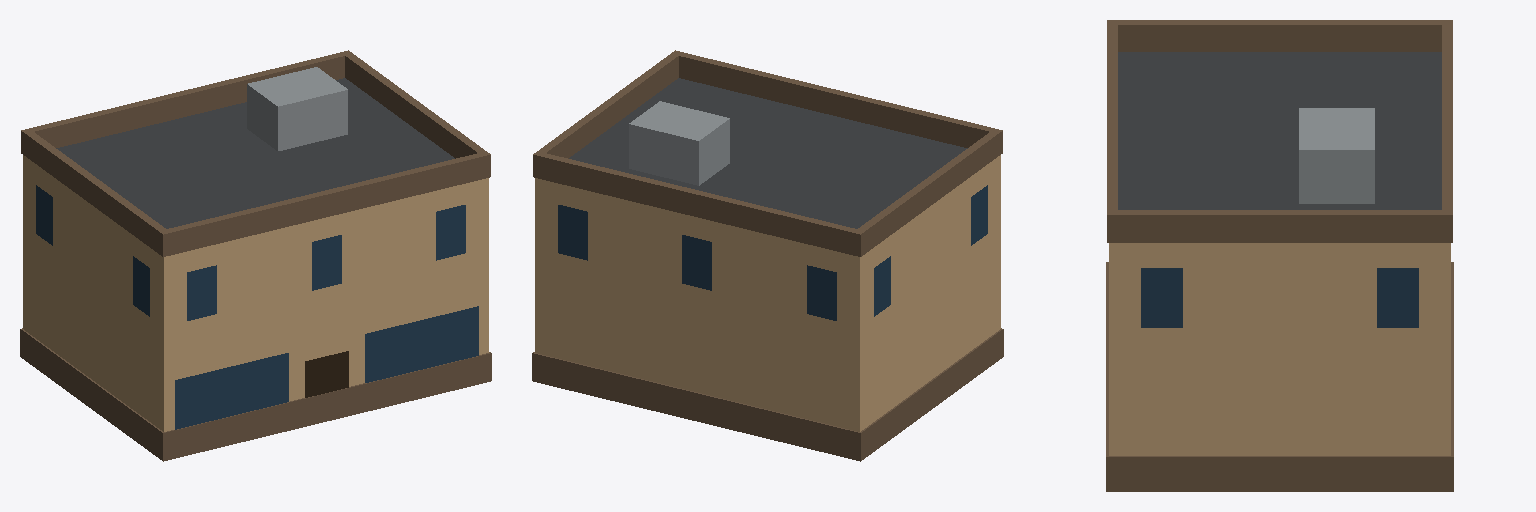
URDF robot description (building_02):
<?xml version="1.0" encoding="utf-8"?>
<!-- Generated by tools/generate_assets.py -->
<robot name="building_02">
  <link name="base_link">
    <inertial>
      <mass value="0" />
      <inertia ixx="0" ixy="0" ixz="0" iyy="0" iyz="0" izz="0" />
    </inertial>
    <visual name="part_0">
      <geometry><mesh filename="meshes/building_02_v0.obj" /></geometry>
      <material name="building_02_0"><color rgba="0.8 0.68 0.52 1" /></material>
    </visual>
    <visual name="part_1">
      <geometry><mesh filename="meshes/building_02_v1.obj" /></geometry>
      <material name="building_02_1"><color rgba="0.48 0.4 0.32 1" /></material>
    </visual>
    <visual name="part_2">
      <geometry><mesh filename="meshes/building_02_v2.obj" /></geometry>
      <material name="building_02_2"><color rgba="0.3 0.31 0.32 1" /></material>
    </visual>
    <visual name="part_3">
      <geometry><mesh filename="meshes/building_02_v3.obj" /></geometry>
      <material name="building_02_3"><color rgba="0.6 0.62 0.63 1" /></material>
    </visual>
    <visual name="part_4">
      <geometry><mesh filename="meshes/building_02_v4.obj" /></geometry>
      <material name="building_02_4"><color rgba="0.2 0.3 0.38 1" /></material>
    </visual>
    <visual name="part_5">
      <geometry><mesh filename="meshes/building_02_v5.obj" /></geometry>
      <material name="building_02_5"><color rgba="0.25 0.2 0.15 1" /></material>
    </visual>
    <visual name="part_6">
      <geometry><mesh filename="meshes/building_02_v6.obj" /></geometry>
      <material name="building_02_6"><color rgba="0.66 0.2 0.18 1" /></material>
    </visual>
    <collision name="hull_0">
      <geometry><mesh filename="meshes/building_02_c0.obj" /></geometry>
    </collision>
    <collision name="hull_1">
      <geometry><mesh filename="meshes/building_02_c1.obj" /></geometry>
    </collision>
    <collision name="hull_2">
      <geometry><mesh filename="meshes/building_02_c2.obj" /></geometry>
    </collision>
  </link>
</robot>

--- Render facts (derived) ---
3 views of the same robot in one strip: view 1: azimuth 30°, elevation 25°; view 2: azimuth 150°, elevation 25°; view 3: azimuth 270°, elevation 25° (orthographic).
Robot: building_02 — 1 links, 0 joints (none); root link base_link; default pose: all joints at 0.
Visible links, largest first — view 1: base_link; view 2: base_link; view 3: base_link.
Boxes of the visible links, x1,y1,x2,y2 form: base_link: (20, 50, 491, 461); base_link: (532, 50, 1003, 461); base_link: (1106, 20, 1453, 491).
Size in the robot's own frame: 12.12 by 9.12 by 8.8 metres.
Meshes: 7 distinct files referenced, 6 mesh visuals loaded (6 OBJ); not drawn: 1 (reference not matched to a file when rendering).
